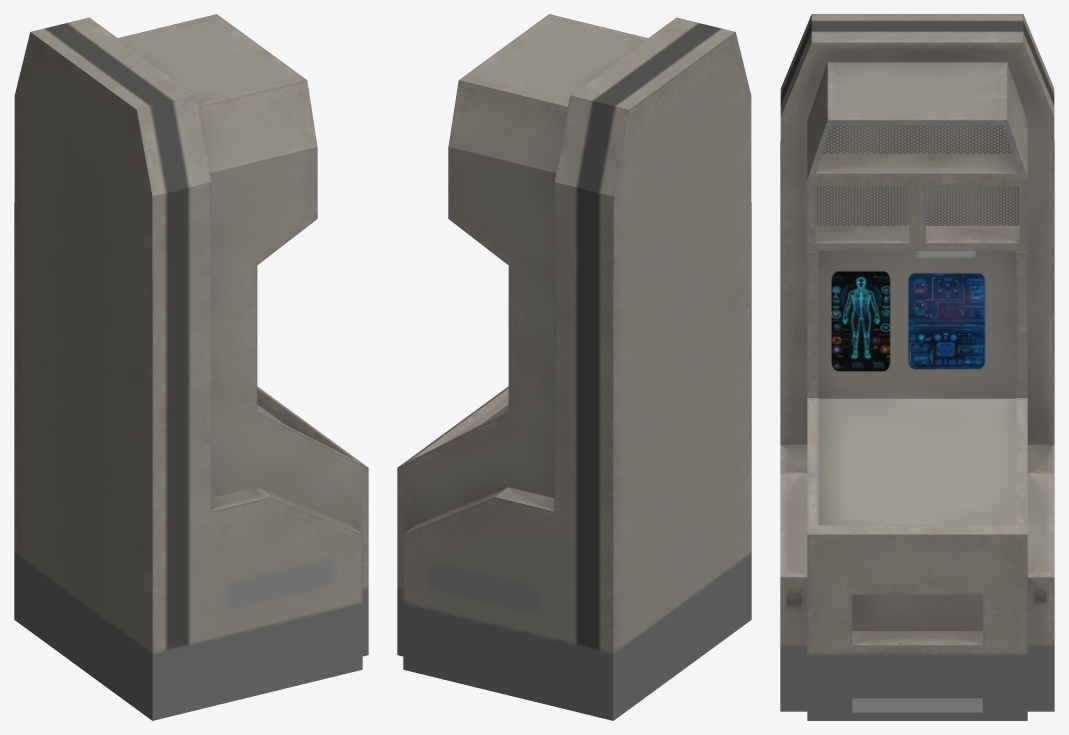
File: scifi_computer.glb
The picture shows the model from 3 angles, left to right: view 1: azimuth 30°, elevation 25°; view 2: azimuth 150°, elevation 25°; view 3: azimuth 270°, elevation 25°; orthographic projection.
Visible parts, largest first — view 1: SM_WashingDevice; view 2: SM_WashingDevice; view 3: SM_WashingDevice.
Part boxes in pixels (x1,y1,x2,y2): SM_WashingDevice: (14, 14, 368, 720); SM_WashingDevice: (397, 14, 751, 720); SM_WashingDevice: (780, 14, 1054, 720).
Size of the model in its own units: 1.19 by 2.98 by 1.24.
1 material, 1 textured.
